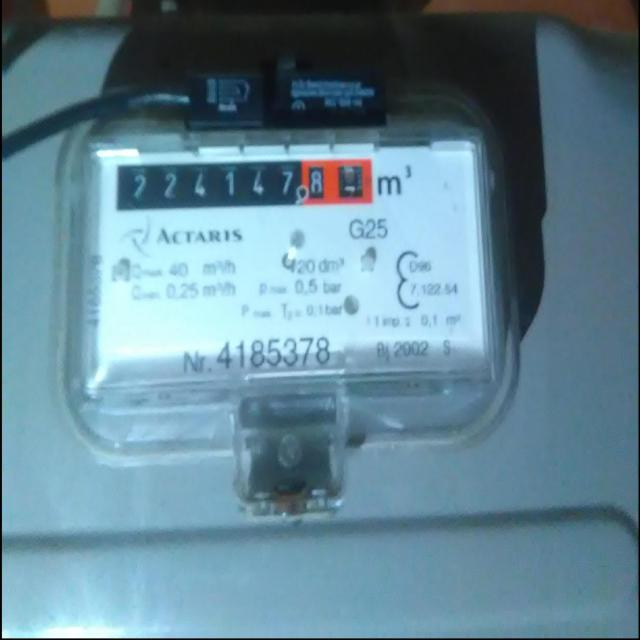gaz_meter: (90, 137, 489, 381)
indication: (116, 157, 374, 214)
